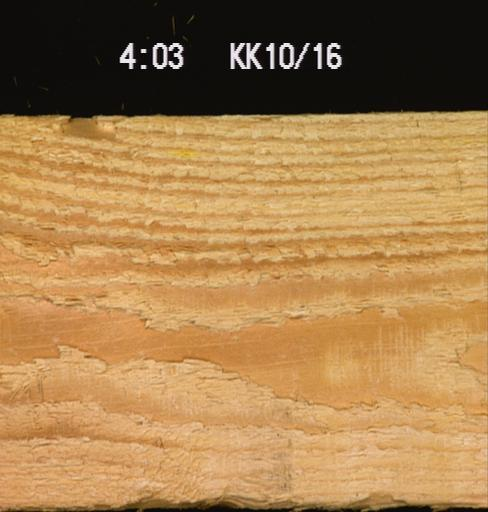wave: (113, 489, 413, 509), (0, 111, 147, 124)
